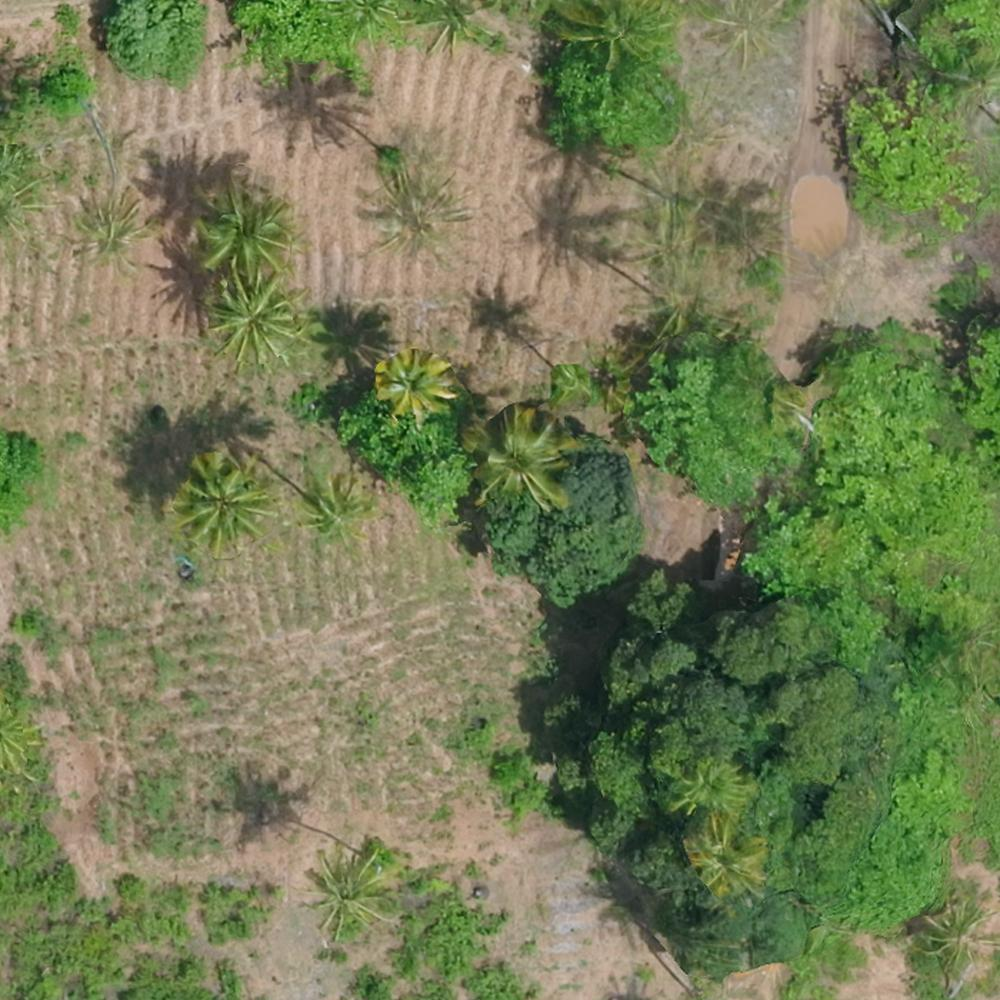Palm: (470, 407, 565, 506), (195, 186, 296, 278), (207, 278, 309, 367), (302, 851, 394, 944), (175, 457, 267, 543), (693, 817, 774, 901), (69, 197, 152, 272), (915, 897, 990, 976), (297, 469, 372, 542), (379, 349, 447, 415)
